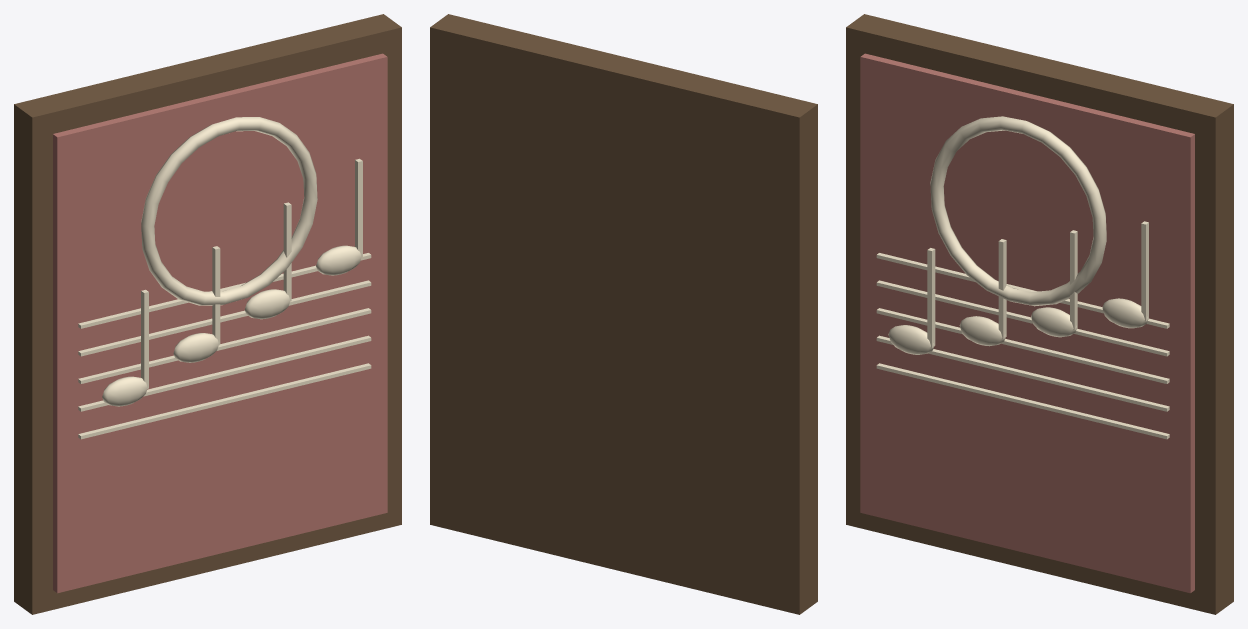
The picture shows the model from 3 angles, left to right: view 1: azimuth 30°, elevation 25°; view 2: azimuth 150°, elevation 25°; view 3: azimuth 330°, elevation 25°; orthographic projection.
Size of the model in its own units: 1.4 by 1.8 by 0.2415.
